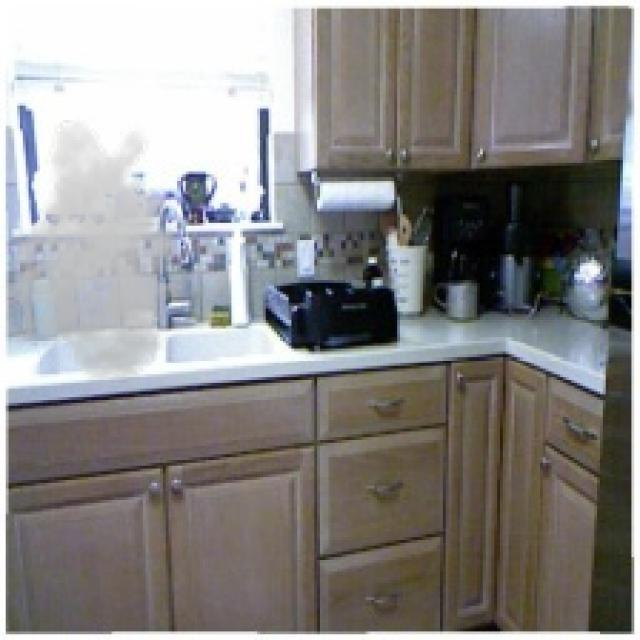Smoke: (0, 117, 200, 383)
